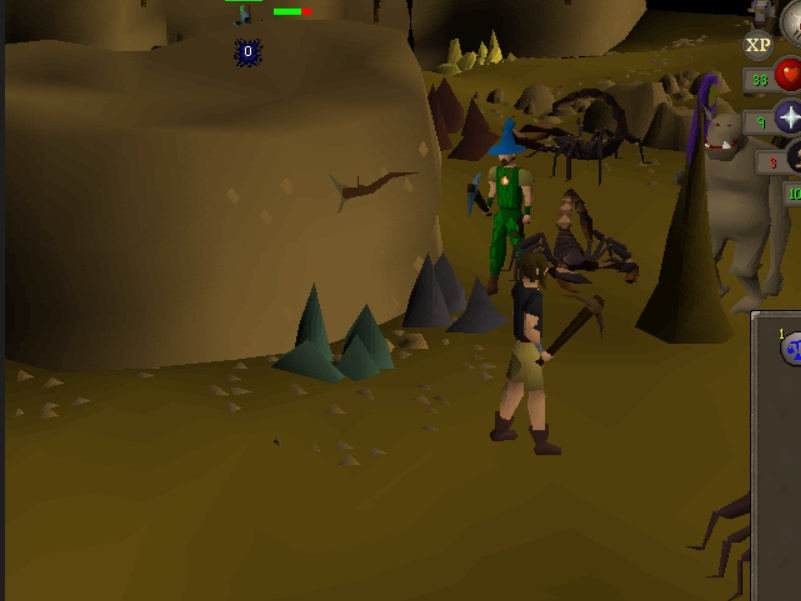adamant: (261, 273, 398, 385)
gold: (431, 32, 480, 80), (477, 27, 517, 67)
iron: (418, 74, 499, 164)
